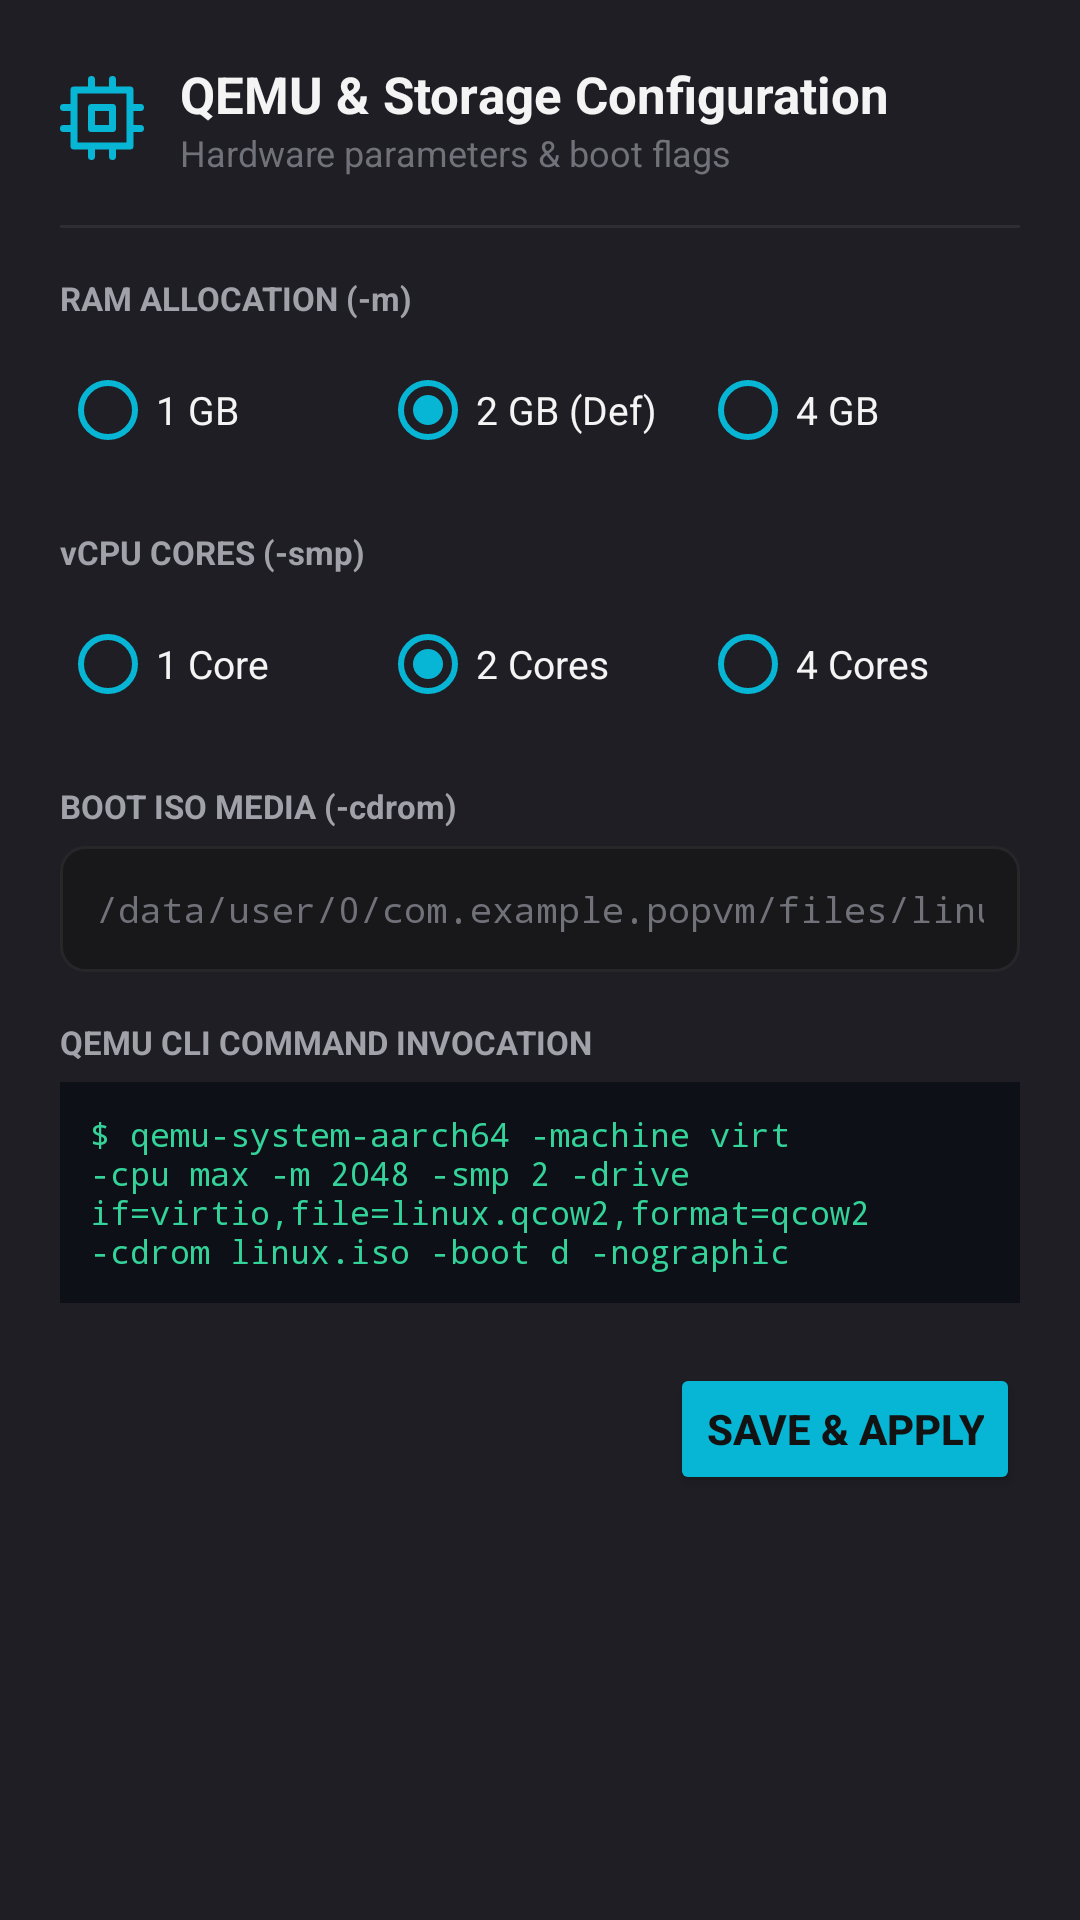

Screen size 1080 × 1920. Icon name, then its box in pixels as [left=x1, top=y1, right=x2, bottom=y2]:
cpu: [left=60, top=76, right=144, bottom=160]
